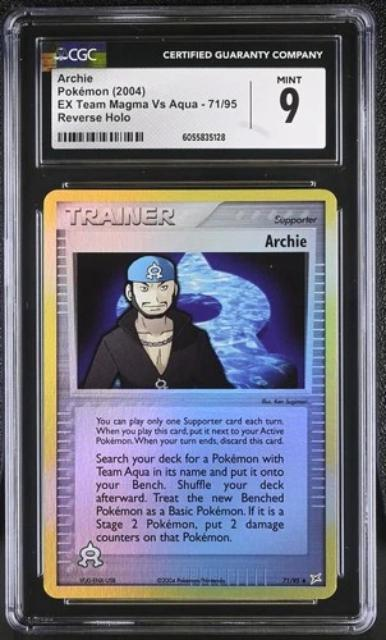Card: (38, 182, 343, 606)
Name: (256, 230, 313, 252)
